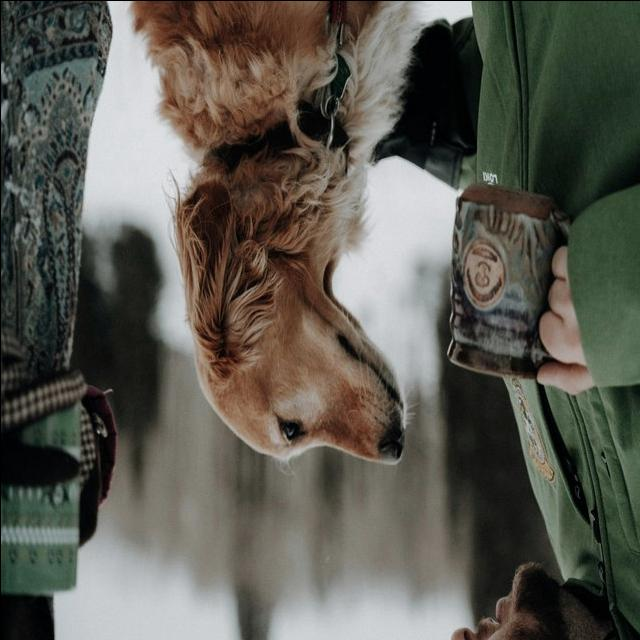retriever: (129, 2, 430, 468)
